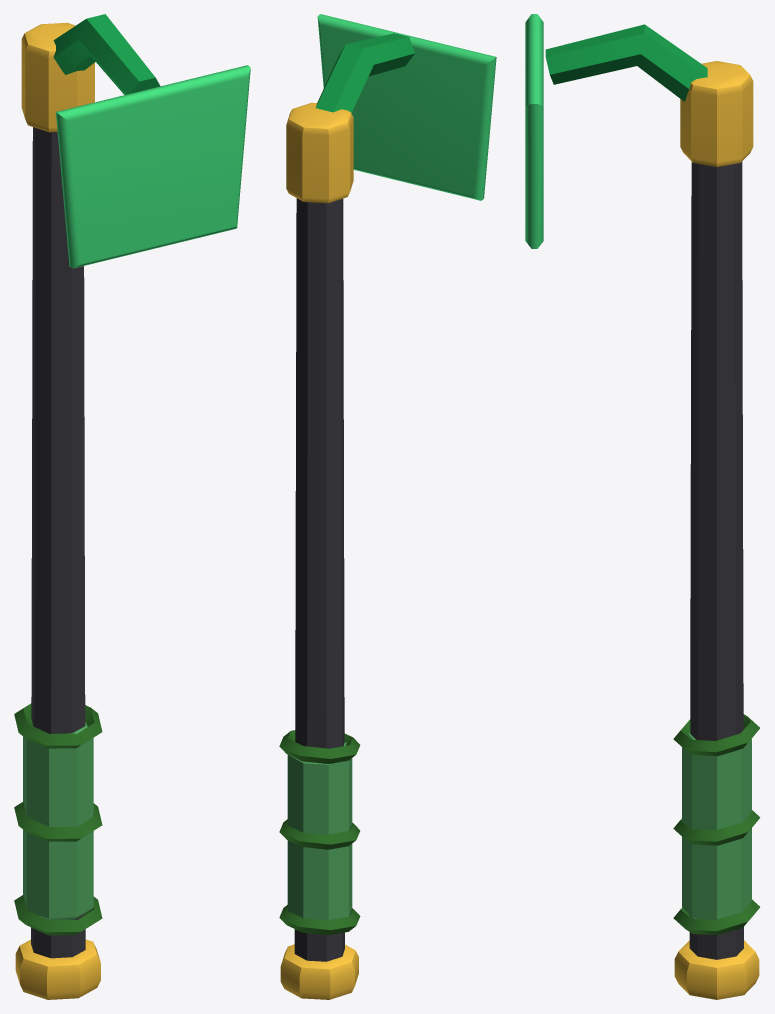
The model's file is EmeraldHoe.fbx.
3 views of the same model, side by side, from view 1: azimuth 30°, elevation 25°; view 2: azimuth 150°, elevation 25°; view 3: azimuth 270°, elevation 25° (orthographic). The views are drawn at different scales.
Parts seen in each view (by area): view 1: EmeraldHoe; view 2: EmeraldHoe; view 3: EmeraldHoe.
Part boxes in pixels (<box>): EmeraldHoe: <box>14,14,250,999</box>; EmeraldHoe: <box>279,14,496,999</box>; EmeraldHoe: <box>525,14,760,999</box>.
Bounding box in the file's own units: 0.7 × 3.48 × 0.7736.
Materials: 1 (1 with a texture image).
